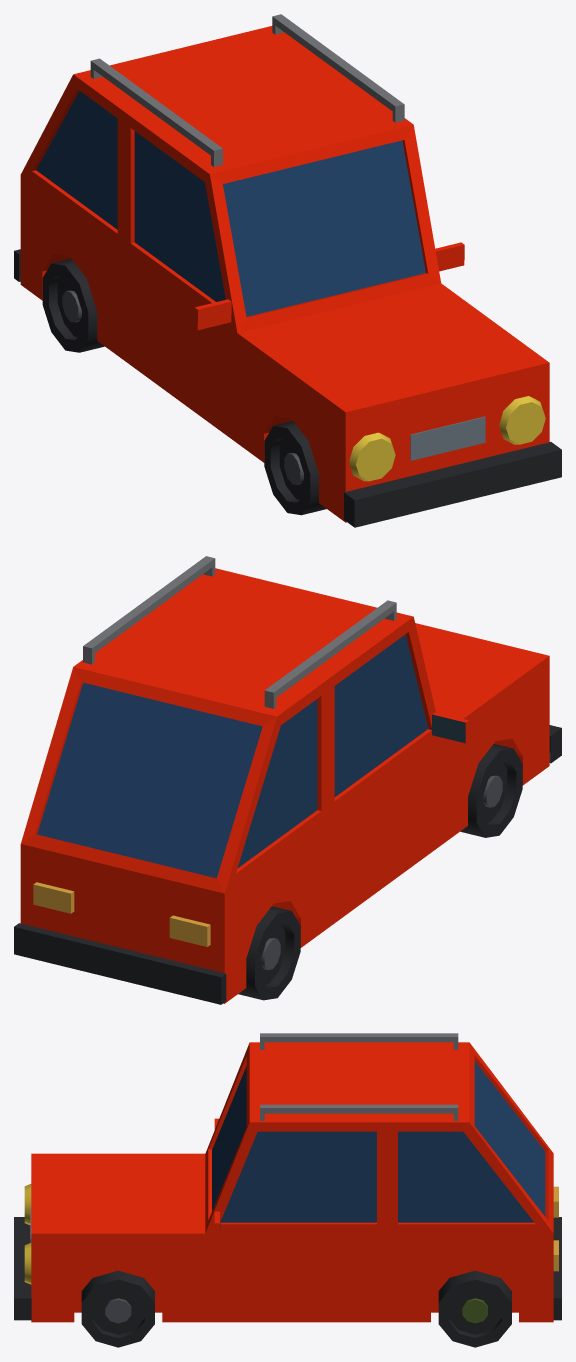
File: Car_7.fbx
The picture shows the model from 3 angles, top to bottom: view 1: azimuth 30°, elevation 25°; view 2: azimuth 150°, elevation 25°; view 3: azimuth 270°, elevation 25°; orthographic projection. The views are drawn at different scales.
Visible parts, largest first — view 1: Car_7; view 2: Car_7; view 3: Car_7.
Part boxes in pixels (box(x1,y1,x2,y2)): Car_7: box(14, 14, 561, 527); Car_7: box(14, 556, 561, 1004); Car_7: box(14, 1033, 561, 1347).
Size of the model in its own units: 199 by 210 by 440.
